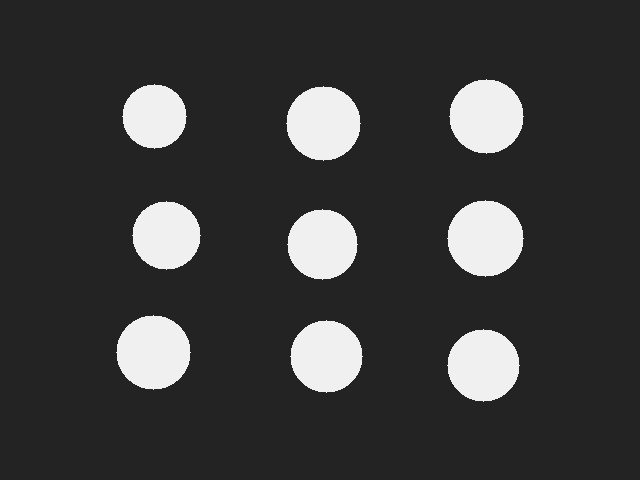hole: (447, 200, 523, 276), (286, 86, 360, 160), (449, 79, 523, 153), (116, 315, 190, 389), (290, 320, 362, 392), (447, 329, 519, 401), (287, 209, 357, 279), (132, 201, 200, 269), (122, 84, 186, 148)
